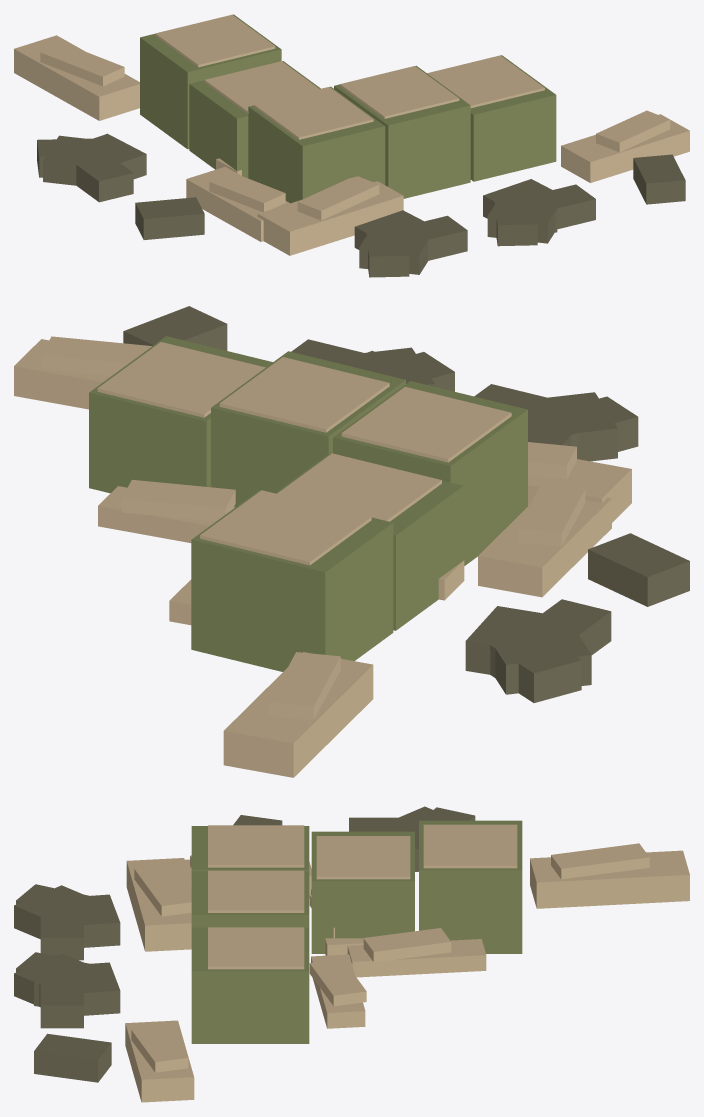
Rendered from SM_HescoEsquina_v3_RemateSacos_e2_MuyDanado_LOD1.fbx.
The picture shows the model from 3 angles, top to bottom: view 1: azimuth 30°, elevation 25°; view 2: azimuth 150°, elevation 25°; view 3: azimuth 270°, elevation 25°; orthographic projection. The views are drawn at different scales.
Visible parts, largest first — view 1: SM_hesco_piezas_v14_LOD1; view 2: SM_hesco_piezas_v14_LOD1; view 3: SM_hesco_piezas_v14_LOD1.
Part boxes in pixels (x1=…): SM_hesco_piezas_v14_LOD1: x1=14, y1=14, x2=689, y2=277; SM_hesco_piezas_v14_LOD1: x1=14, y1=306, x2=689, y2=777; SM_hesco_piezas_v14_LOD1: x1=14, y1=806, x2=689, y2=1102.
Size of the model in its own units: 6.71 by 0.988 by 7.01.
